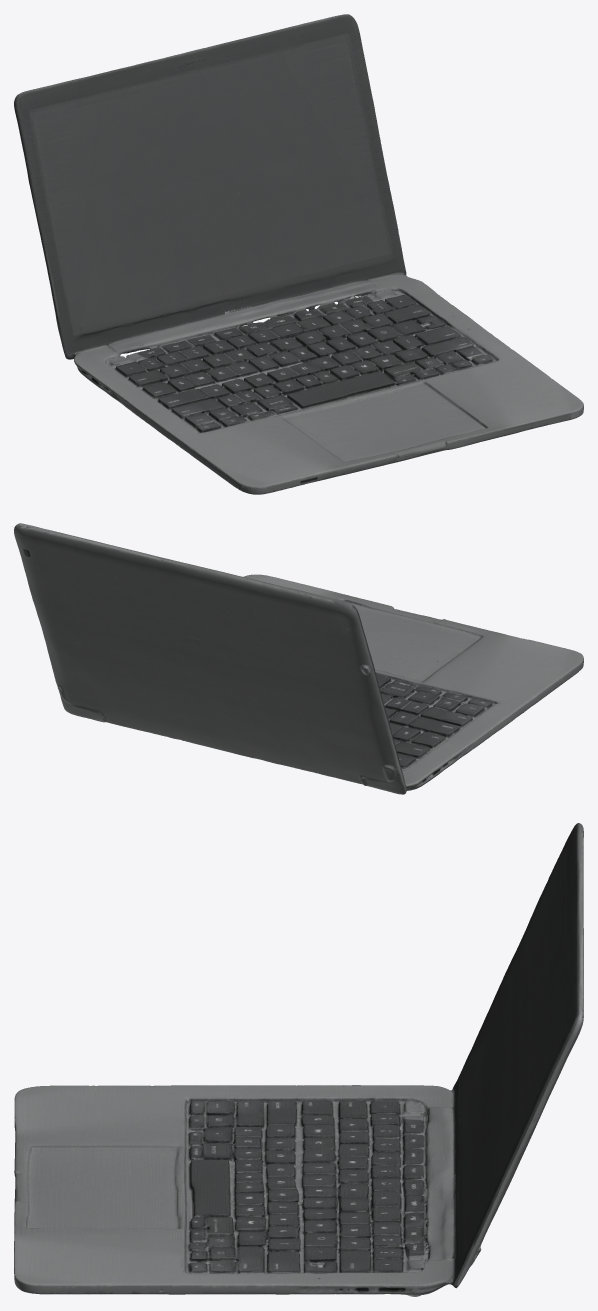
The model's file is Meshy_AI_Create_a_highly_detai_0814020033_texture.glb.
3 renders of one model, top to bottom at view 1: azimuth 30°, elevation 25°; view 2: azimuth 150°, elevation 25°; view 3: azimuth 270°, elevation 25°, orthographic. The views are drawn at different scales.
Bounding box in the file's own units: 1.67 × 1.11 × 2.
1 material, 1 textured.
